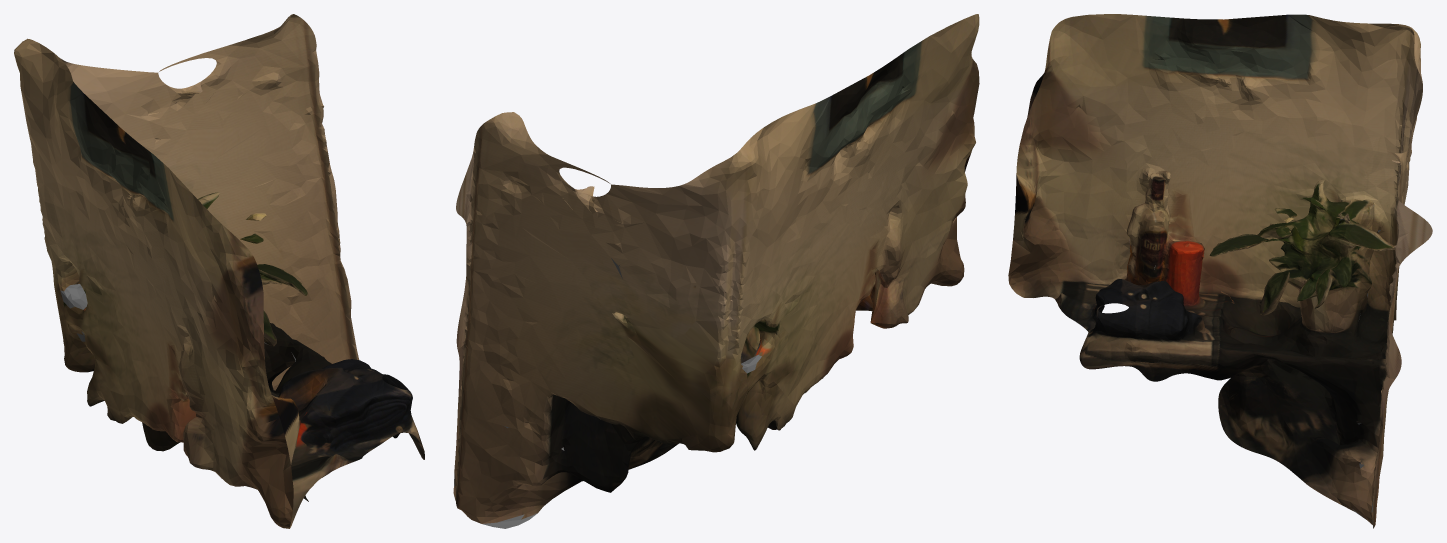
The picture shows the model from 3 angles, left to right: view 1: azimuth 30°, elevation 25°; view 2: azimuth 150°, elevation 25°; view 3: azimuth 270°, elevation 25°; orthographic projection. The views are drawn at different scales.
Visible parts, largest first — view 1: Capture_2013_12_29_18_12_52; view 2: Capture_2013_12_29_18_12_52; view 3: Capture_2013_12_29_18_12_52.
Boxes of the visible parts, left/top/right/bottom form: Capture_2013_12_29_18_12_52: left=14, top=14, right=424, bottom=528; Capture_2013_12_29_18_12_52: left=453, top=14, right=979, bottom=528; Capture_2013_12_29_18_12_52: left=1008, top=14, right=1432, bottom=528.
Size of the model in its own units: 5.7 by 7.42 by 7.29.
2 materials, 1 textured.
